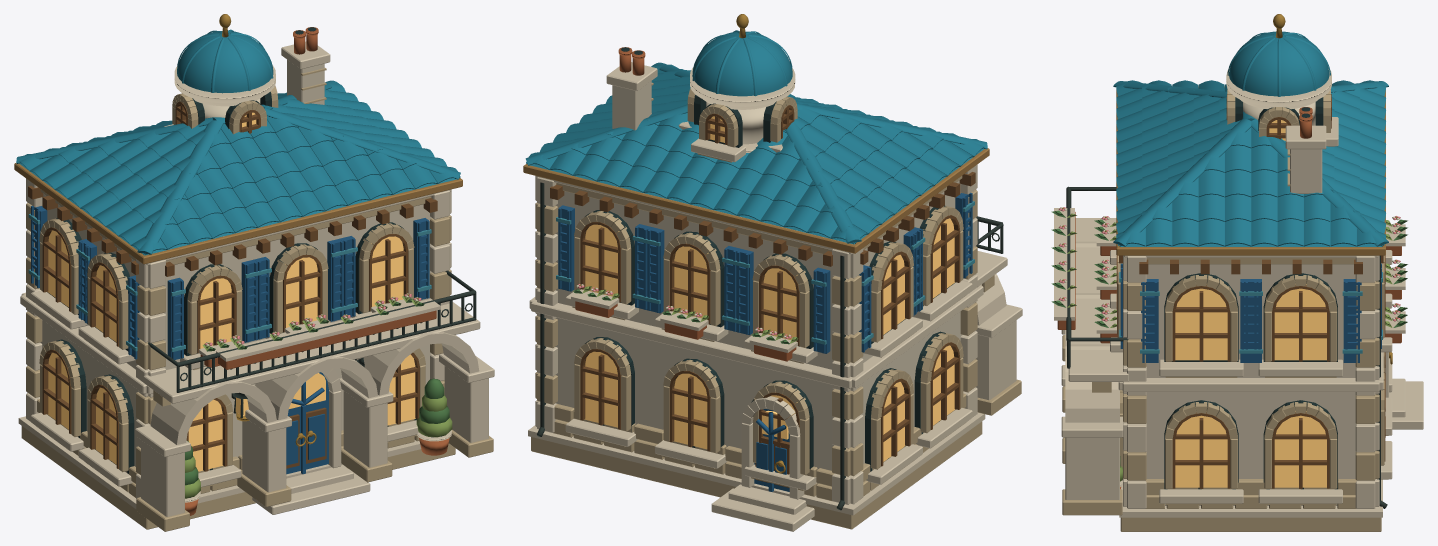
3 renders of one model, left to right at view 1: azimuth 30°, elevation 25°; view 2: azimuth 150°, elevation 25°; view 3: azimuth 270°, elevation 25°, orthographic. The views are drawn at different scales.
Visible parts, largest first — view 1: harbor_hotel_2_geometry, harbor_hotel_2_geometry ceramic; view 2: harbor_hotel_2_geometry, harbor_hotel_2_geometry ceramic; view 3: harbor_hotel_2_geometry, harbor_hotel_2_geometry ceramic.
Part boxes in pixels (bbox=[...]): harbor_hotel_2_geometry: bbox=[14, 14, 494, 531]; harbor_hotel_2_geometry ceramic: bbox=[16, 29, 460, 351]; harbor_hotel_2_geometry: bbox=[523, 14, 1022, 531]; harbor_hotel_2_geometry ceramic: bbox=[525, 30, 987, 344]; harbor_hotel_2_geometry: bbox=[1051, 14, 1423, 531]; harbor_hotel_2_geometry ceramic: bbox=[1113, 31, 1388, 353].
Bounding box in the file's own units: 0.9502 × 1.16 × 0.8914.
